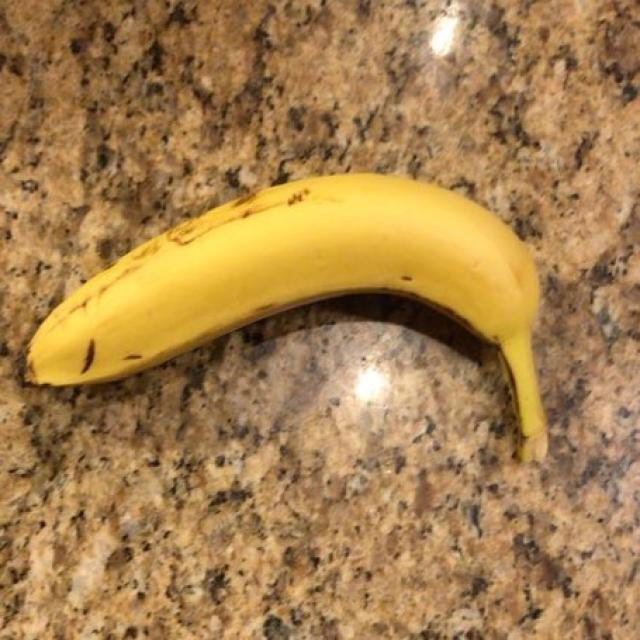banana: (19, 171, 542, 437)
